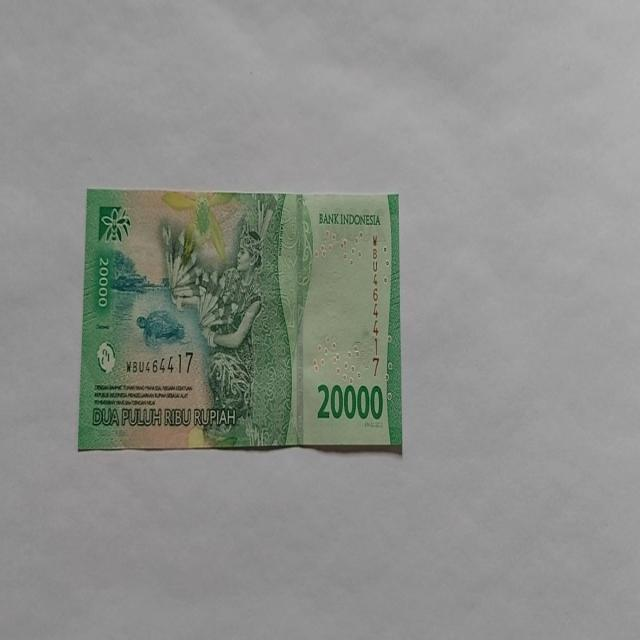dua puluh ribu rupiah: (77, 186, 403, 454), (159, 191, 312, 447)
